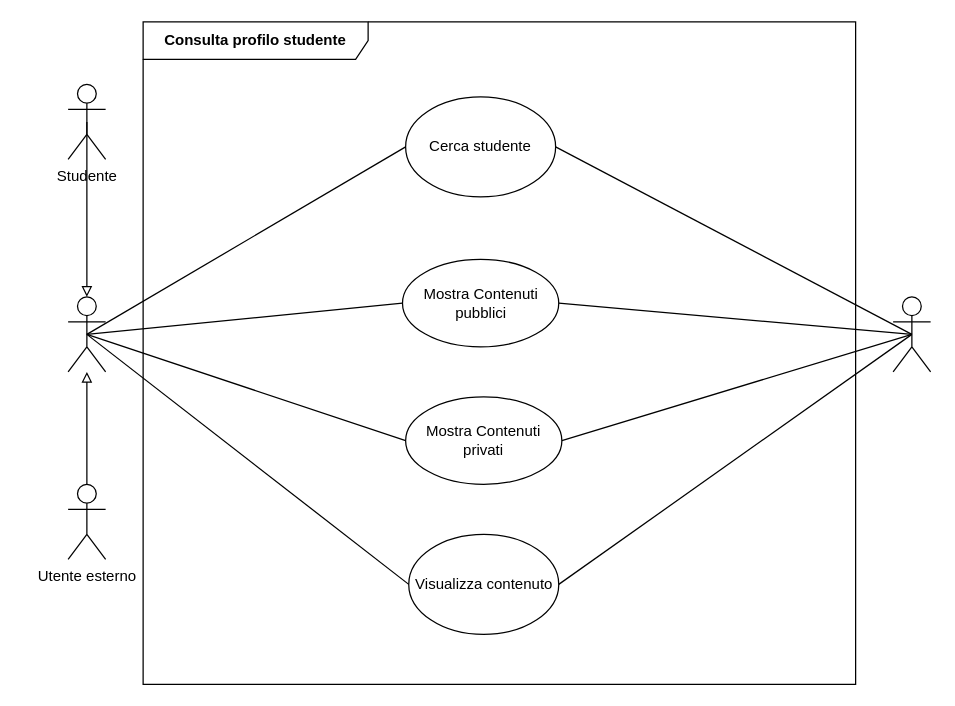
Image size: 955x706. Some labels were removed from this diagram. The centre of each missing label's shape, as x and y in pixels:
DBMS: point 911,334
Utente: point 86,334
